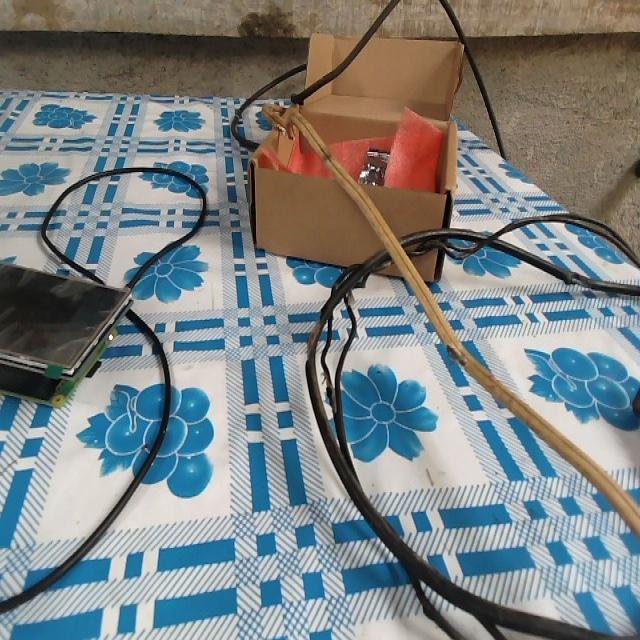-: (320, 365, 336, 411), (443, 339, 467, 369), (306, 317, 318, 360)
